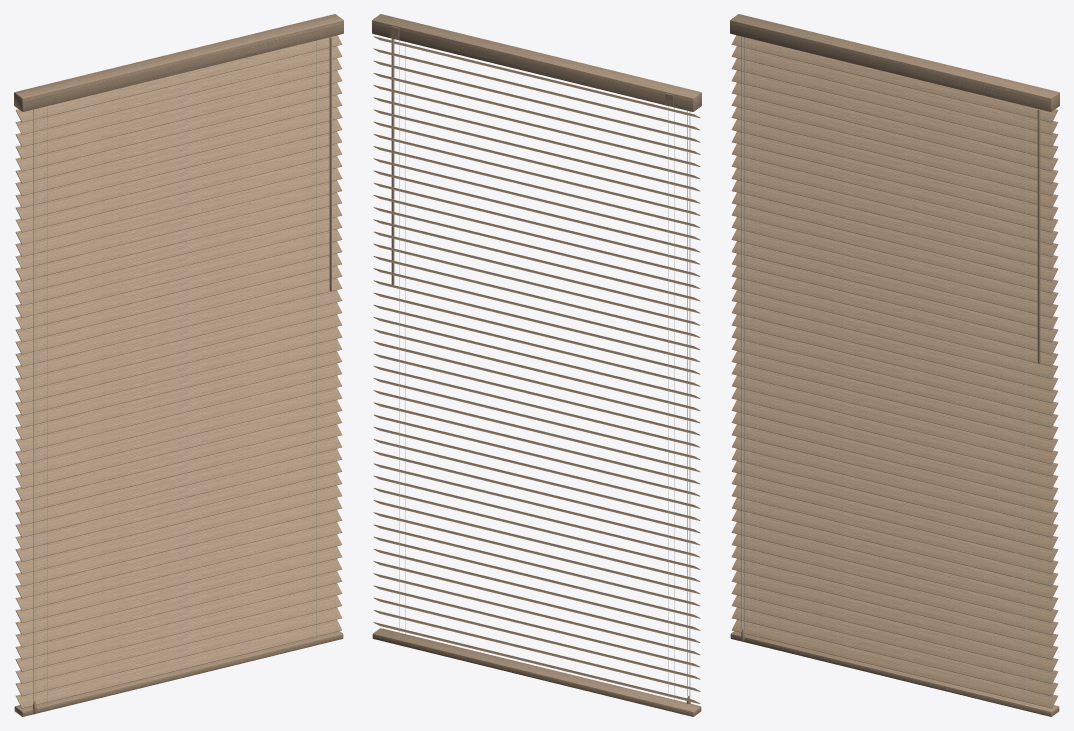
The model's file is veneciana_madera_220_c100.glb.
3 views of the same model, side by side, from view 1: azimuth 30°, elevation 25°; view 2: azimuth 150°, elevation 25°; view 3: azimuth 330°, elevation 25° (orthographic).
Parts seen in each view (by area): view 1: veneciana_madera_220_c100; view 2: veneciana_madera_220_c100; view 3: veneciana_madera_220_c100.
Boxes of the visible parts, <box> form: veneciana_madera_220_c100: <box>14,14,343,716</box>; veneciana_madera_220_c100: <box>372,14,701,716</box>; veneciana_madera_220_c100: <box>730,14,1059,716</box>.
Size of the model in its own units: 1.2 by 2.2 by 0.0639.
2 materials, 1 textured.
